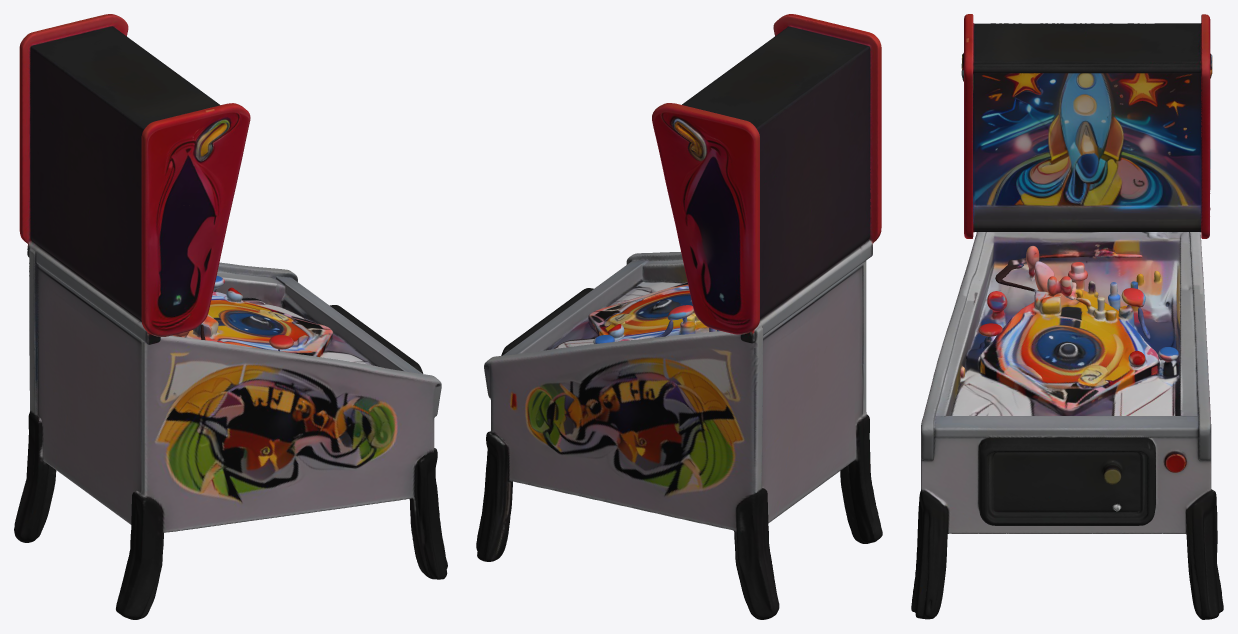
Rendered from pinball_machine.glb.
3 renders of one model, left to right at view 1: azimuth 30°, elevation 25°; view 2: azimuth 150°, elevation 25°; view 3: azimuth 270°, elevation 25°, orthographic. The views are drawn at different scales.
Visible parts, largest first — view 1: tripo_node_15696ac2-7b1e-4f48-be2c-0865201a85a8; view 2: tripo_node_15696ac2-7b1e-4f48-be2c-0865201a85a8; view 3: tripo_node_15696ac2-7b1e-4f48-be2c-0865201a85a8.
Boxes of the visible parts, left/top/right/bottom form: tripo_node_15696ac2-7b1e-4f48-be2c-0865201a85a8: left=14, top=14, right=447, bottom=619; tripo_node_15696ac2-7b1e-4f48-be2c-0865201a85a8: left=476, top=14, right=882, bottom=619; tripo_node_15696ac2-7b1e-4f48-be2c-0865201a85a8: left=911, top=14, right=1223, bottom=619.
Size of the model in its own units: 0.6349 by 1 by 0.5873.
Materials: 1 (1 with a texture image).
